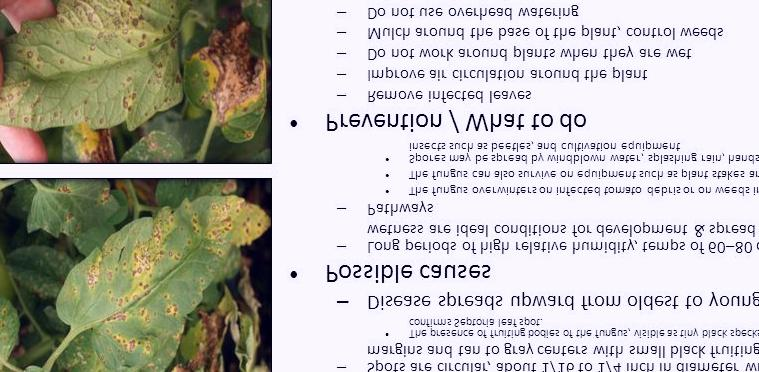Tomato Septoria leaf spot: (52, 193, 269, 372), (0, 0, 189, 132), (173, 11, 267, 153)
